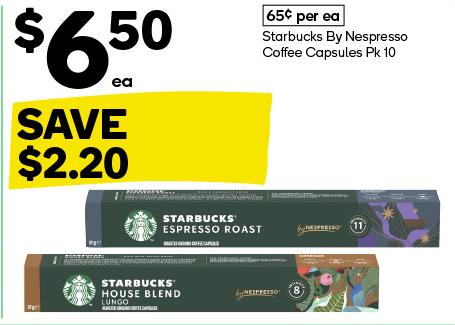description_block: (258, 29, 422, 64)
price_main: (7, 3, 198, 91)
product_image_block: (8, 188, 442, 320)
promo_text_block: (5, 95, 292, 188)
unit_price_block: (257, 2, 359, 27)
